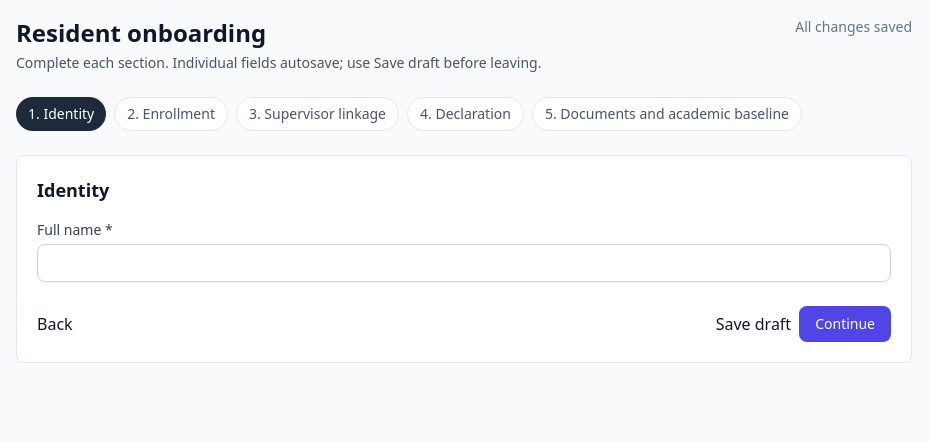
Test case: CompleteProfilePage › does not advance when a resident draft save fails
Expected: the heading "Resident onboarding" is shown, [16,16,266,49]
Click the button "Continue".
click(845, 324)  # box [799,306,891,342]
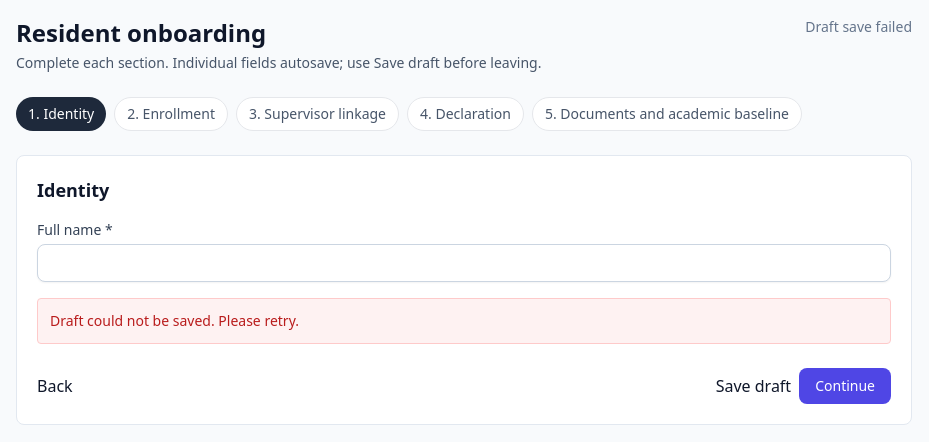
Expected: the heading "Identity" is shown, [37,178,109,202]
Expected: the text "Draft could not be saved. Please retry." is shown, [37,298,891,344]
